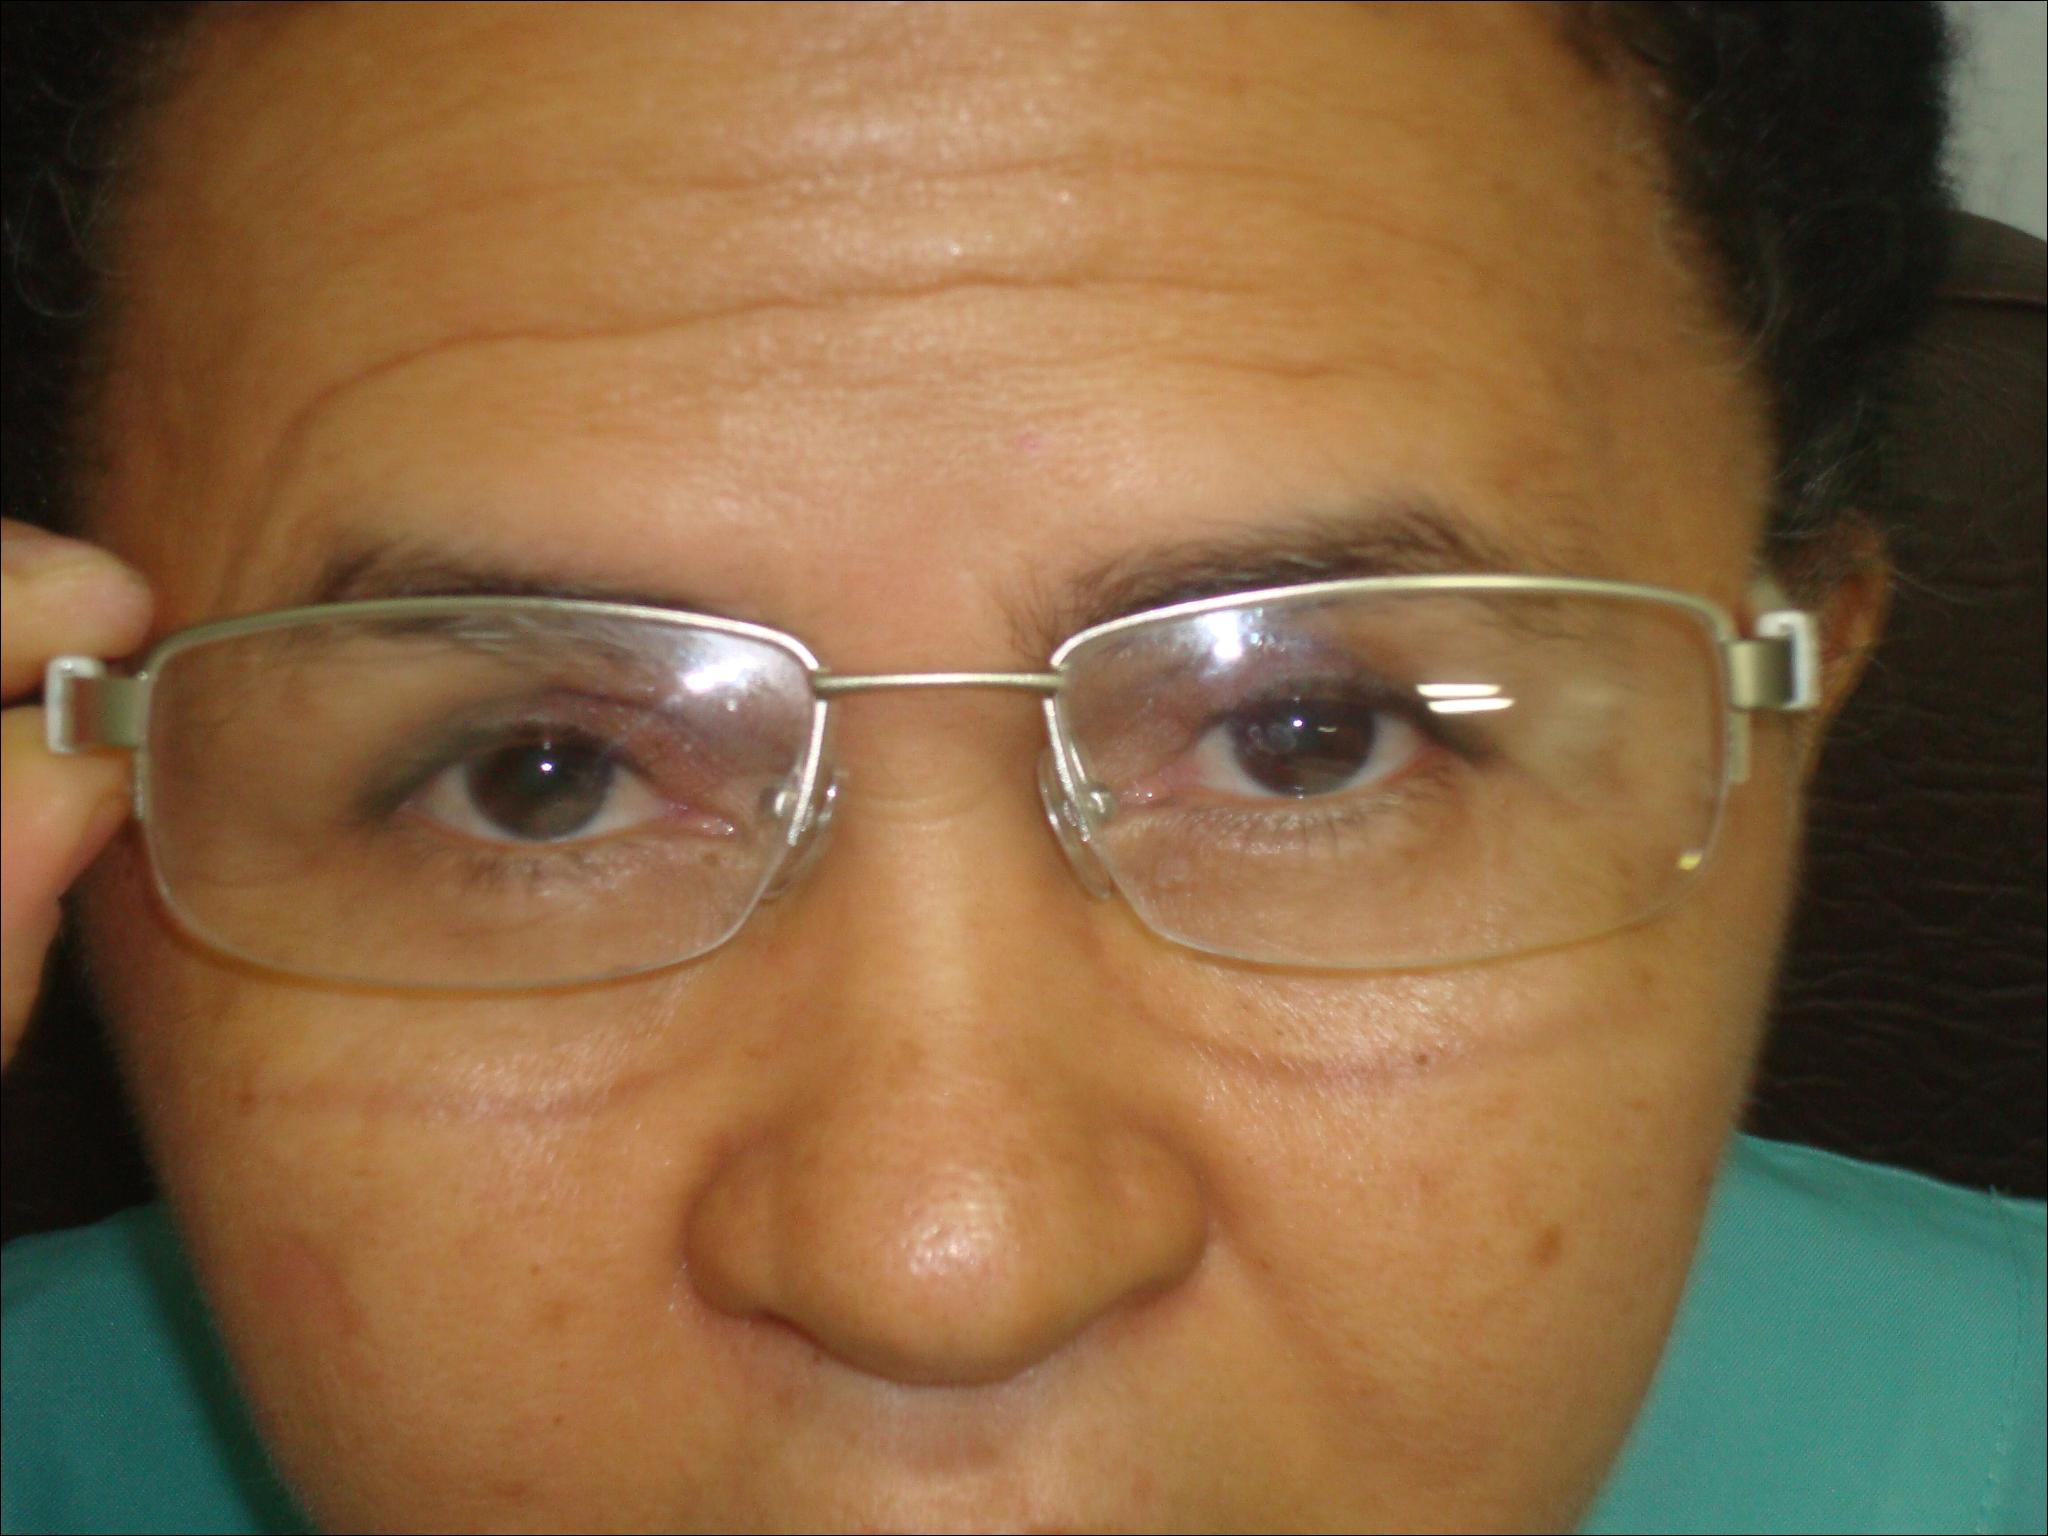flash: (1285, 712, 1309, 734), (539, 757, 555, 776)
limbo: (469, 702, 610, 836), (1222, 665, 1371, 789)
